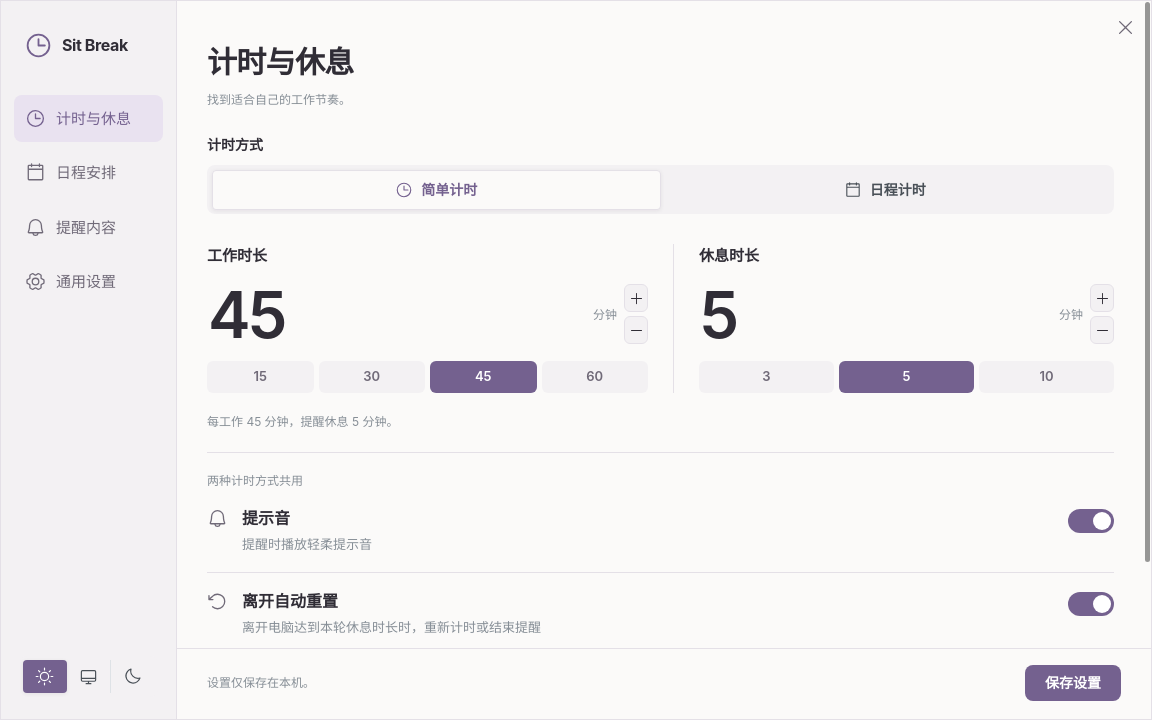
it: 设置主要交互 › 日程空状态可以直接添加日程，并保留选中的计时方式
Click the text "日程计时" at (885, 190), box [844,181,926,199]
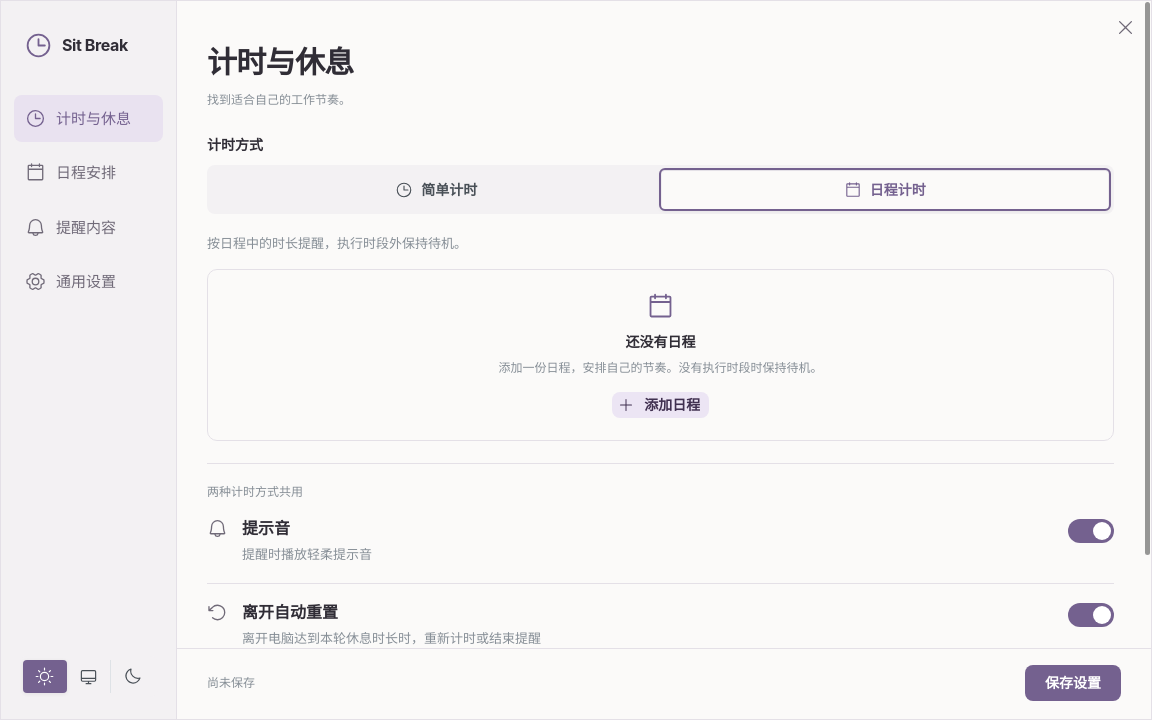
Check: the element named "日程概览" shows "还没有日程", box [626,333,696,350]
Click the button "添加日程" at (660, 405), box [612,392,709,418]
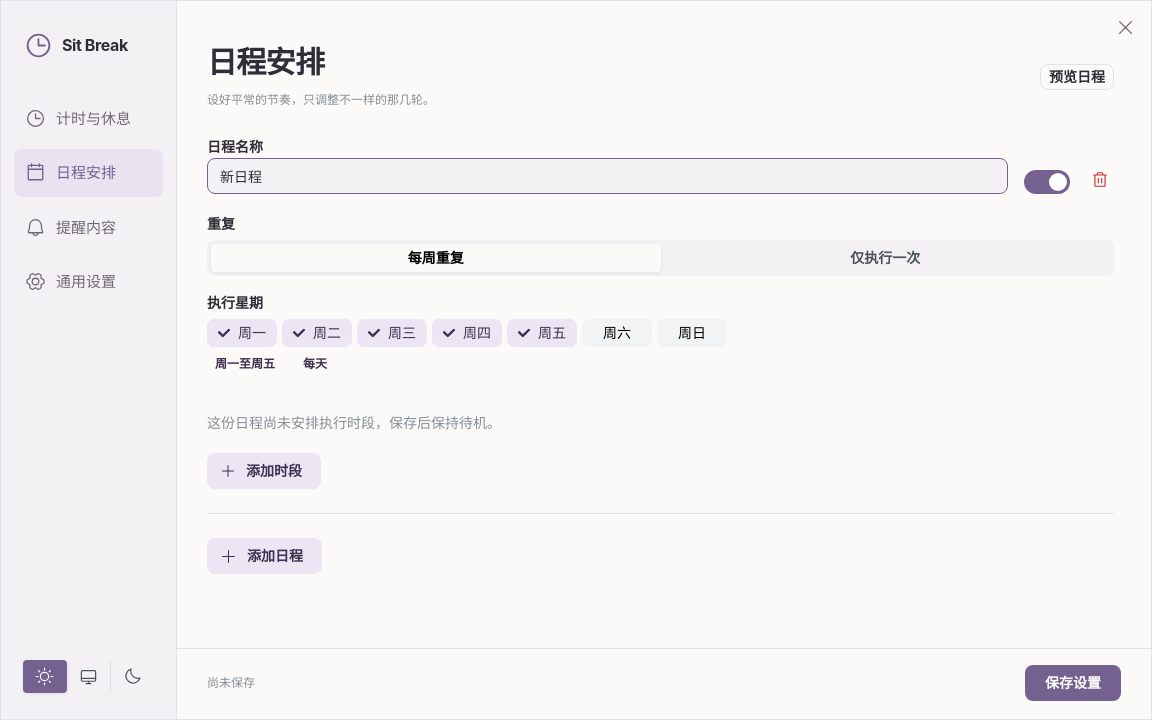
Replace the text in the field labelled "日程名称" with "晨间安排" at (608, 176), box [207,158,1008,194]
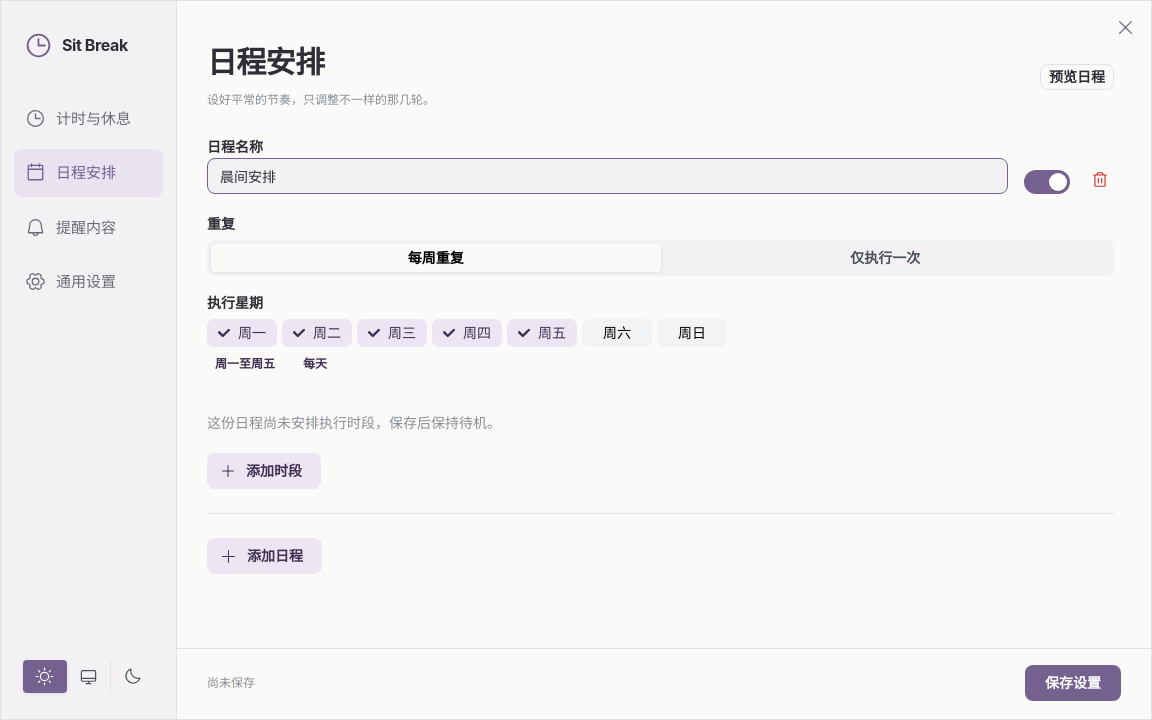
Click the button "计时与休息" at (88, 119), box [14,95,163,142]
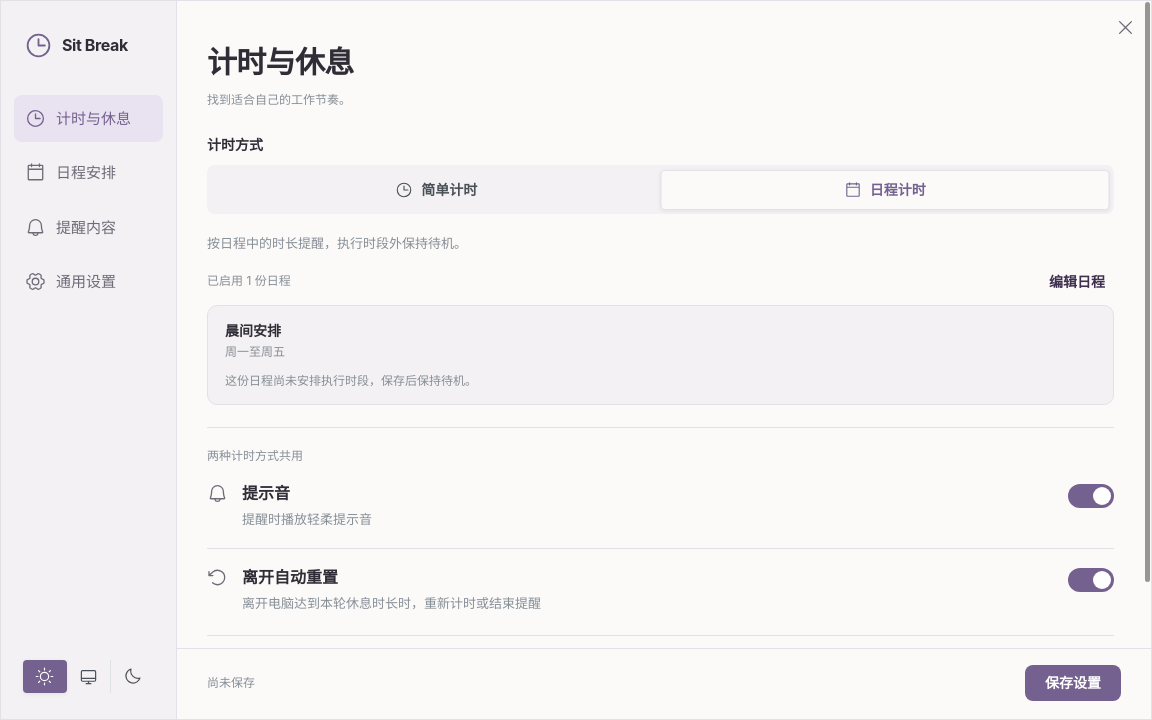
Check: the element named "日程概览" shows "晨间安排", box [225,322,281,339]
Check: the 1st radio button labelled "日程计时" is checked, box [844,181,926,199]
Click the button "保存设置" at (1073, 683), box [1025,665,1121,701]
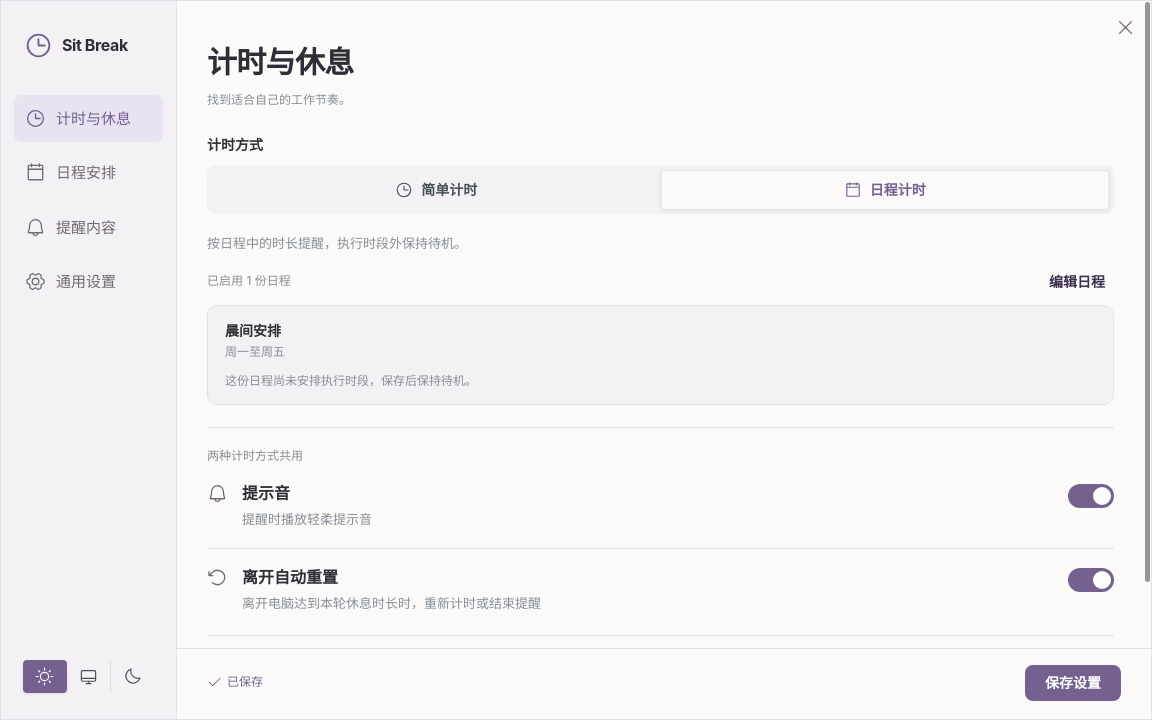
Check: the text "晨间安排" is shown, box [225,322,281,339]
Check: the text "已保存" is shown, box [207,672,263,691]
